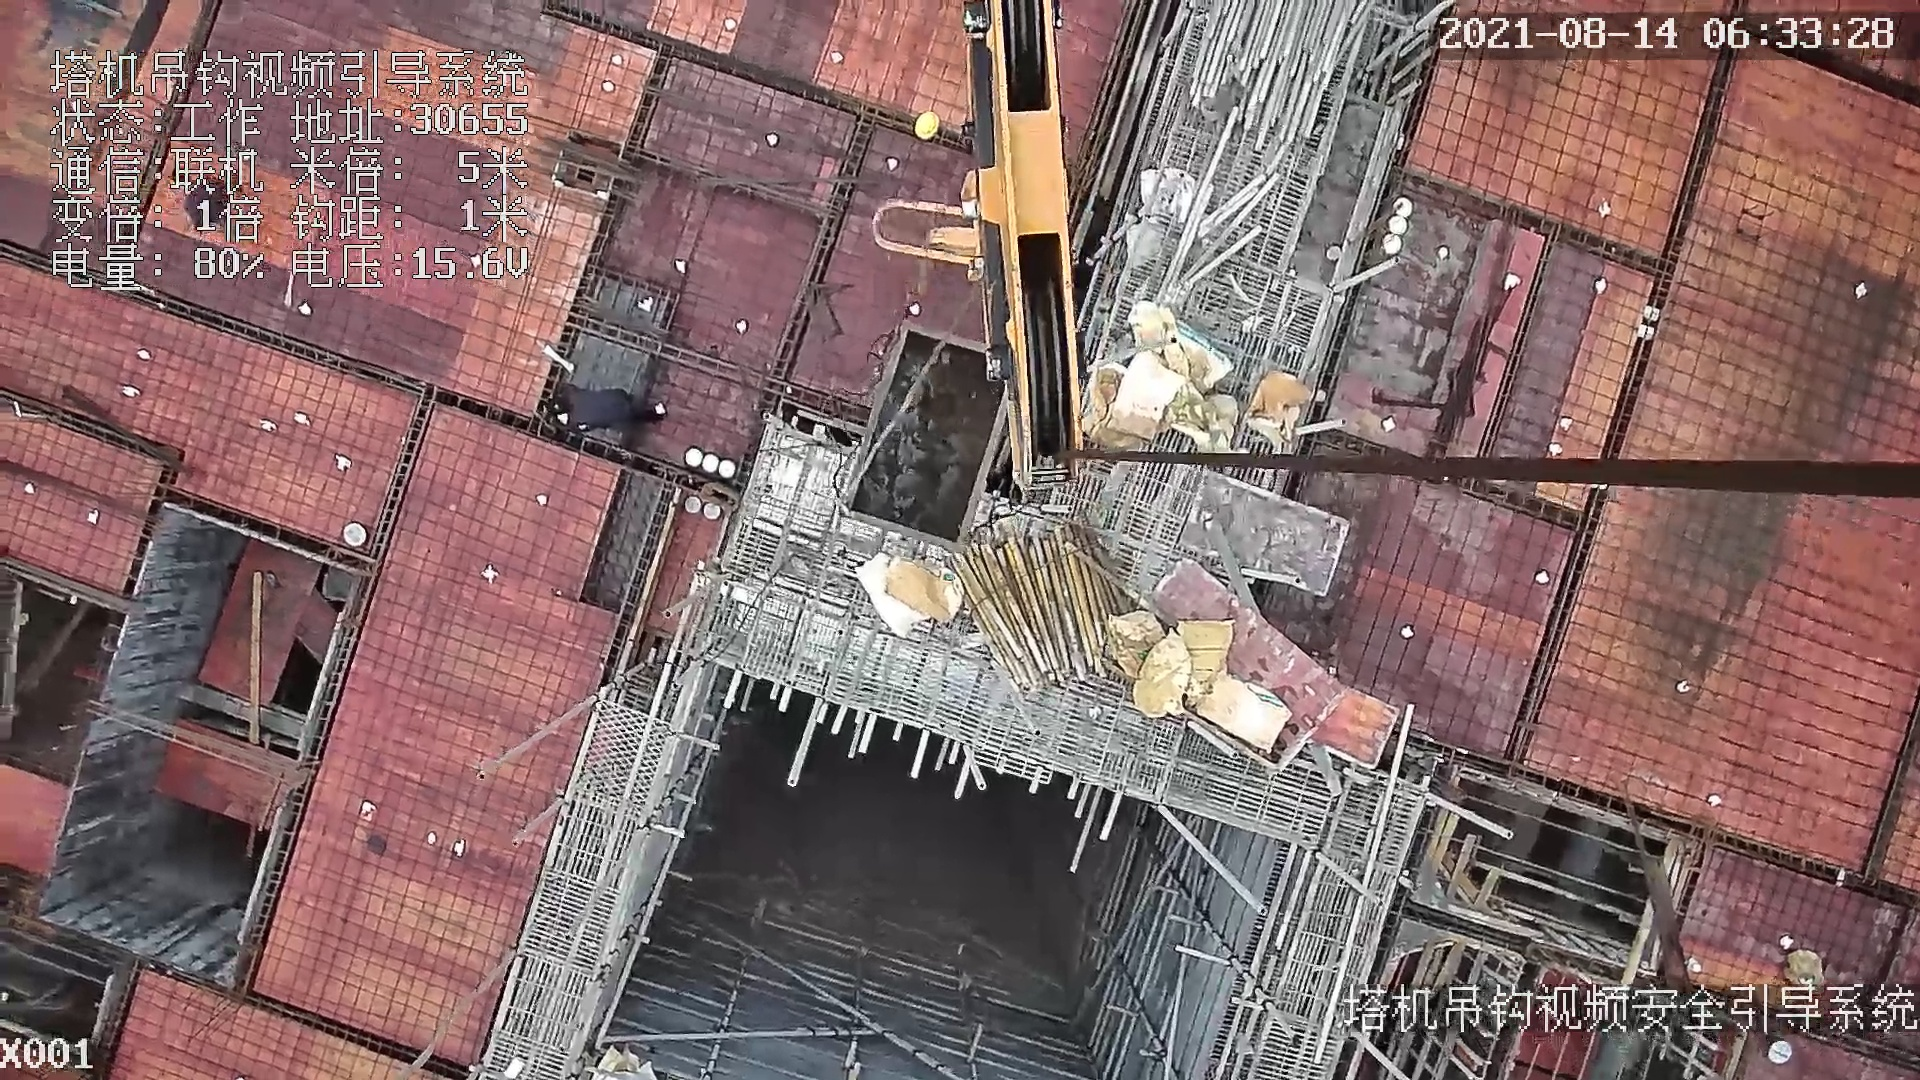helmet: (914, 108, 942, 143)
hook: (870, 1, 1086, 483)
hopper: (860, 309, 1006, 567)
person: (543, 381, 669, 439)
scaffold: (942, 523, 1124, 697), (1185, 4, 1355, 150)
